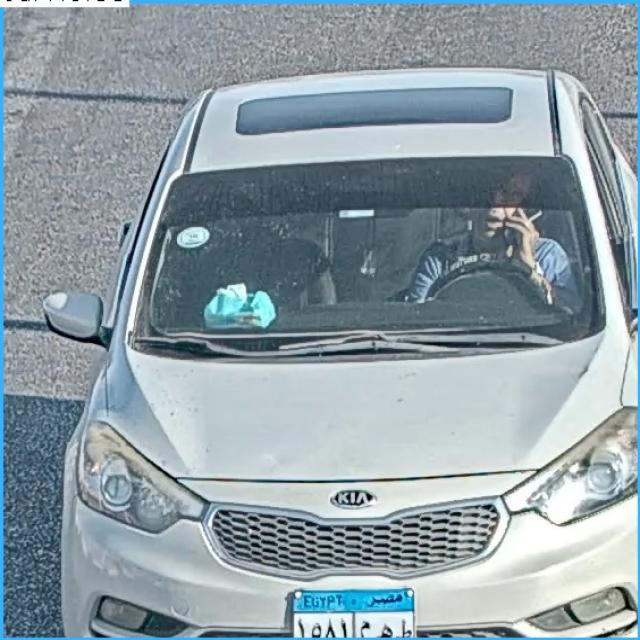windshield: (143, 166, 600, 340)
